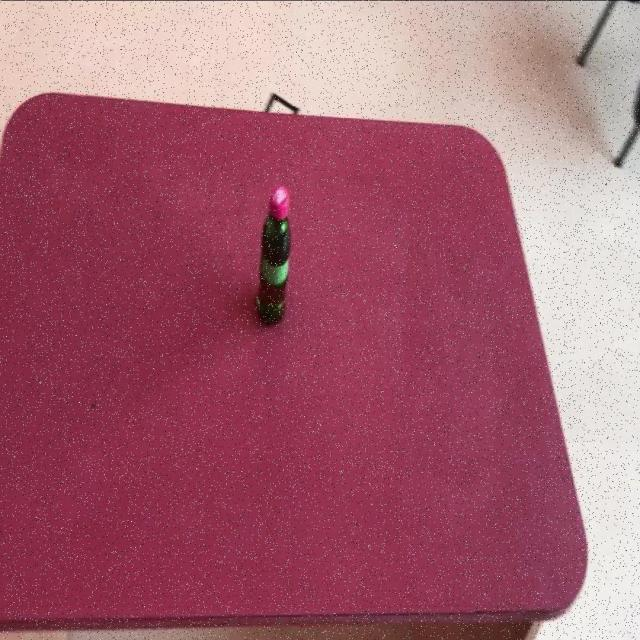Guarana: (0, 91, 587, 634), (255, 185, 291, 329)
